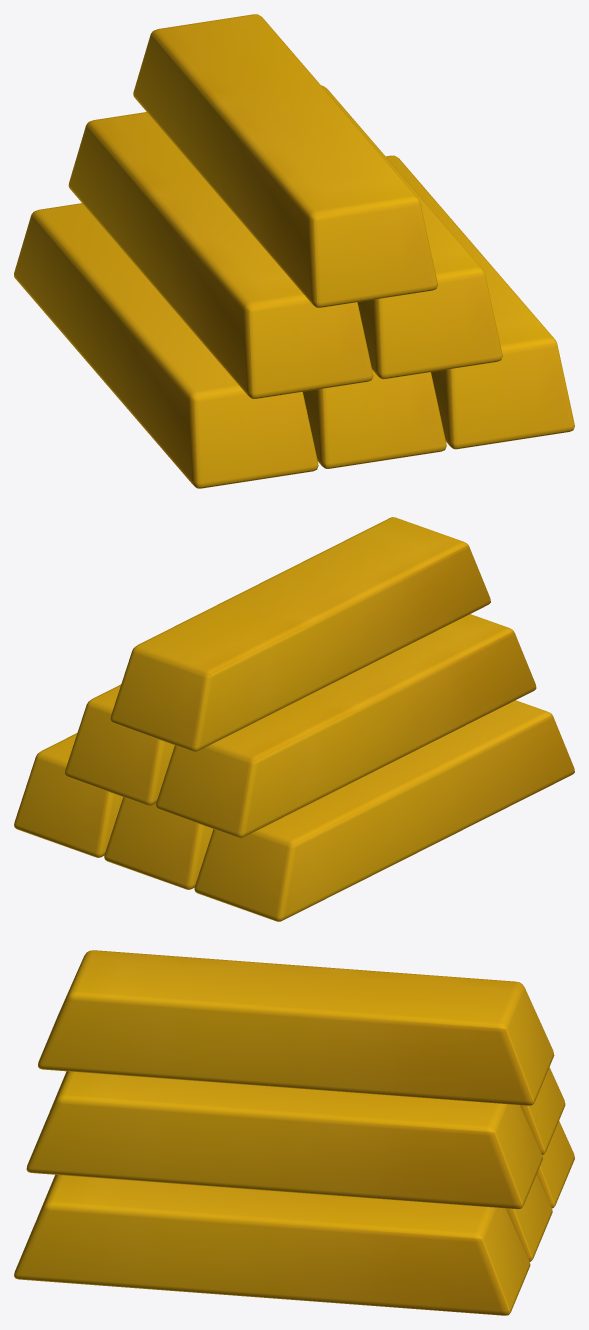
File: Gold_.obj
3 views of the same model, one above another, from view 1: azimuth 30°, elevation 25°; view 2: azimuth 150°, elevation 25°; view 3: azimuth 270°, elevation 25° (orthographic). The views are drawn at different scales.
Parts seen in each view (by area): view 1: Gold_001, Gold_004, Gold_006, Gold_003, Gold_005, Gold_002; view 2: Gold_001, Gold_004, Gold_006, Gold_003, Gold_005, Gold_002; view 3: Gold_001, Gold_003, Gold_005, Gold_002, Gold_004, Gold_006.
Boxes of the visible parts, bbox=[...] form: Gold_001: bbox=[133, 14, 437, 307]; Gold_004: bbox=[68, 112, 373, 398]; Gold_006: bbox=[14, 203, 318, 488]; Gold_003: bbox=[386, 155, 574, 449]; Gold_005: bbox=[321, 85, 502, 379]; Gold_002: bbox=[303, 370, 446, 468]; Gold_001: bbox=[110, 517, 490, 751]; Gold_004: bbox=[156, 614, 536, 837]; Gold_006: bbox=[194, 700, 574, 921]; Gold_003: bbox=[14, 733, 123, 857]; Gold_005: bbox=[65, 684, 174, 805]; Gold_002: bbox=[104, 797, 213, 889]; Gold_001: bbox=[38, 950, 554, 1105]; Gold_003: bbox=[14, 1175, 530, 1315]; Gold_005: bbox=[26, 1071, 542, 1209]; Gold_002: bbox=[37, 1174, 552, 1261]; Gold_004: bbox=[50, 1067, 565, 1154]; Gold_006: bbox=[537, 1121, 574, 1208].
Bounding box in the file's own units: 463 × 254 × 563.
Materials: 1 (1 with a texture image).
